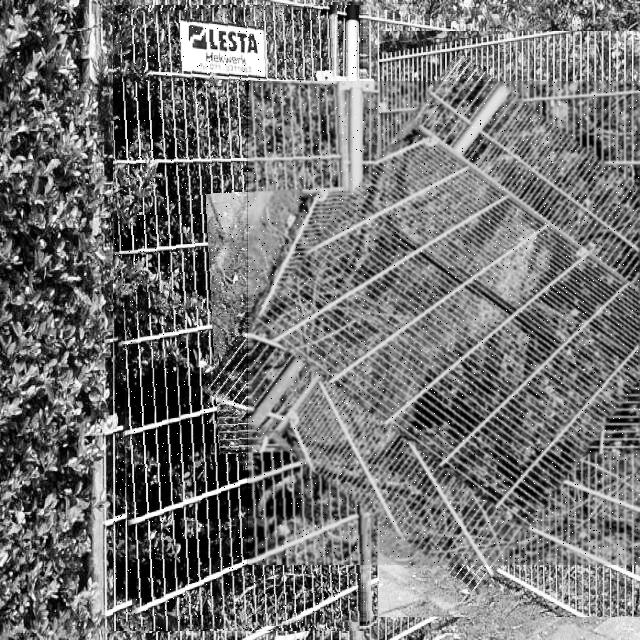fences: (250, 81, 640, 565), (114, 5, 366, 631)
